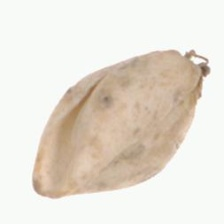L1: (31, 125, 77, 200), (174, 48, 211, 94)
L2: (30, 49, 211, 199)
